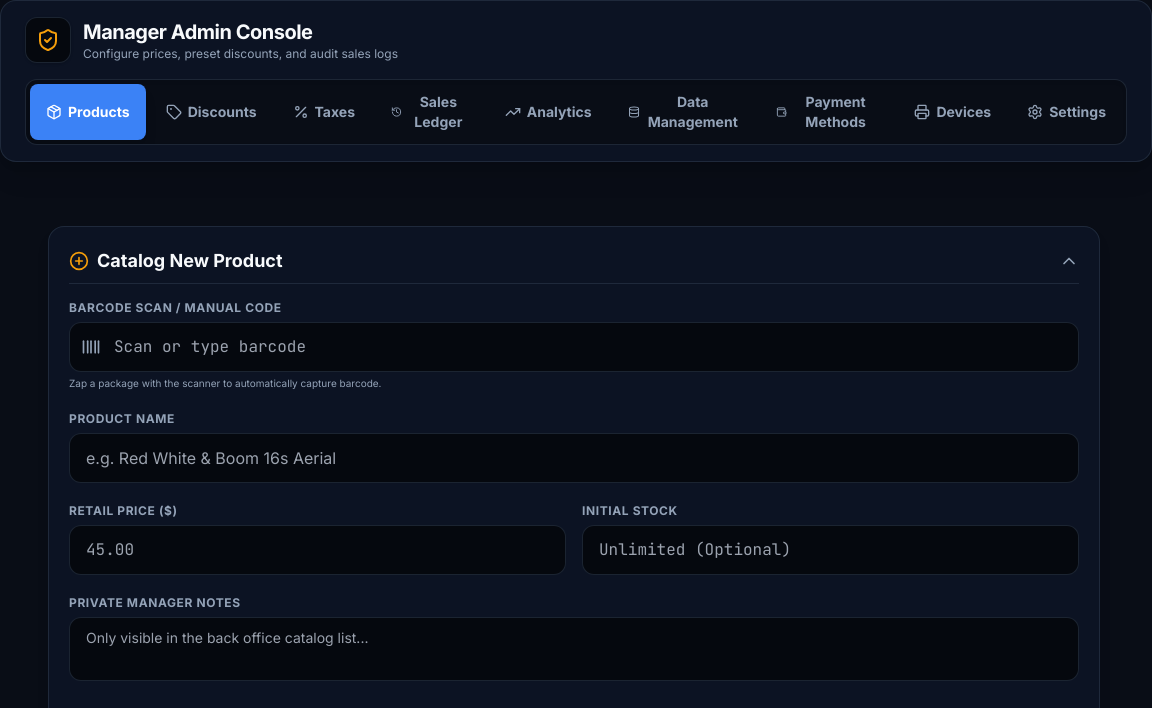
AdminView Component › shows the app updates panel with the current version
The width and height of the screenshot is (1152, 708).
Step 1. Click the button "Settings" → (1067, 112), box x1=1011 y1=84 x2=1122 y2=140
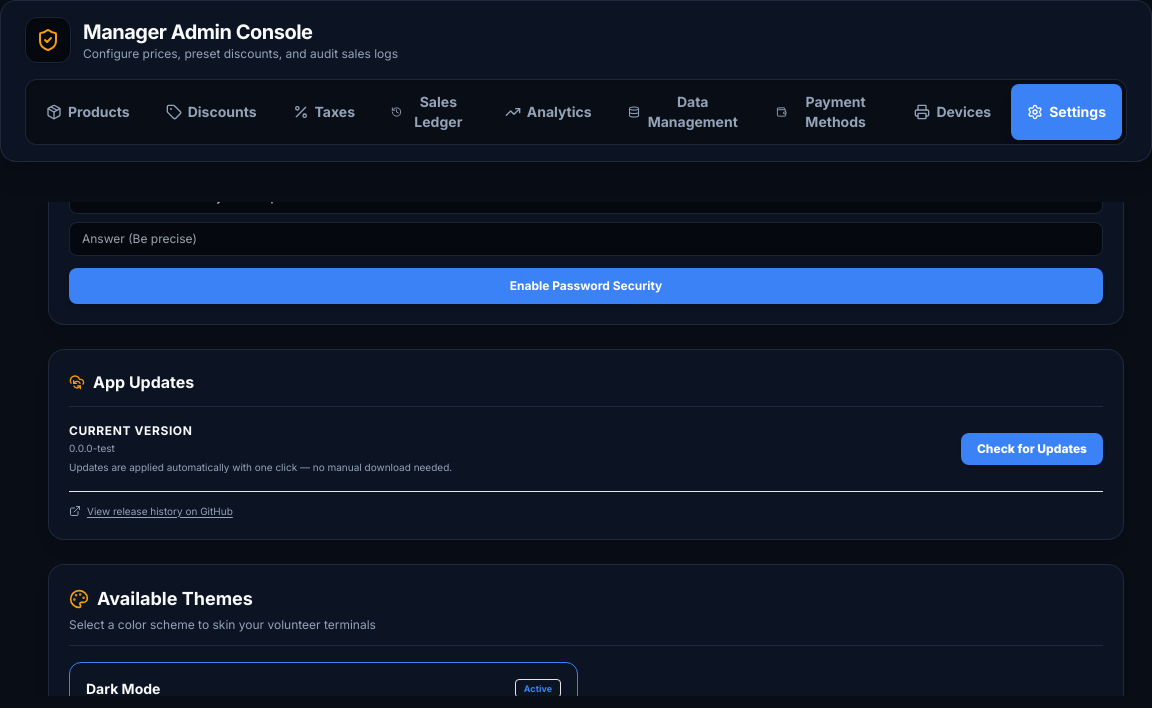
expect the heading "App Updates" is shown: met, box x1=69 y1=370 x2=1103 y2=406
expect the text "0.0.0-test" is shown: met, box x1=69 y1=442 x2=115 y2=454
expect the button "Check for Updates" is shown: met, box x1=961 y1=432 x2=1103 y2=464
